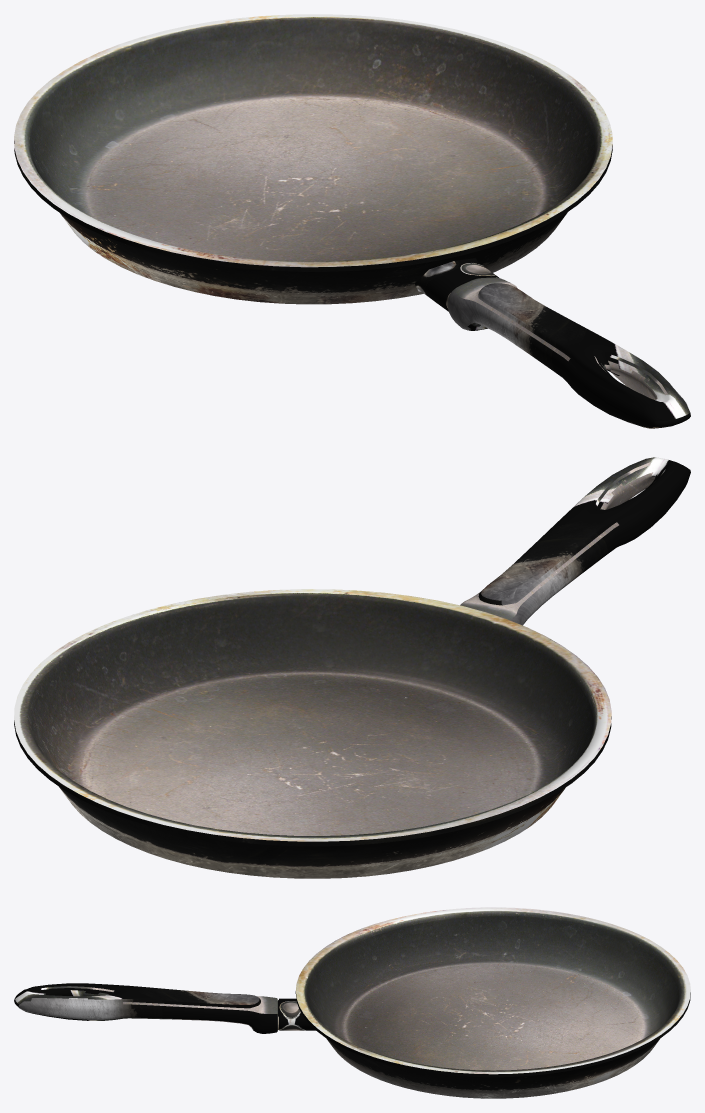
Rendered from NewPan.fbx.
3 renders of one model, top to bottom at view 1: azimuth 30°, elevation 25°; view 2: azimuth 150°, elevation 25°; view 3: azimuth 270°, elevation 25°, orthographic. The views are drawn at different scales.
Visible parts, largest first — view 1: Pan, Handle, PanMetal; view 2: Pan, Handle; view 3: Pan, Handle, PanMetal.
Part boxes in pixels (bbox=[...]): Pan: bbox=[14, 14, 612, 304]; Handle: bbox=[446, 276, 690, 428]; PanMetal: bbox=[414, 258, 498, 311]; Pan: bbox=[14, 589, 611, 878]; Handle: bbox=[460, 457, 690, 625]; Pan: bbox=[295, 907, 690, 1098]; Handle: bbox=[14, 983, 278, 1033]; PanMetal: bbox=[279, 998, 315, 1030].
Size of the model in its own units: 0.3152 by 0.0355 by 0.54.
